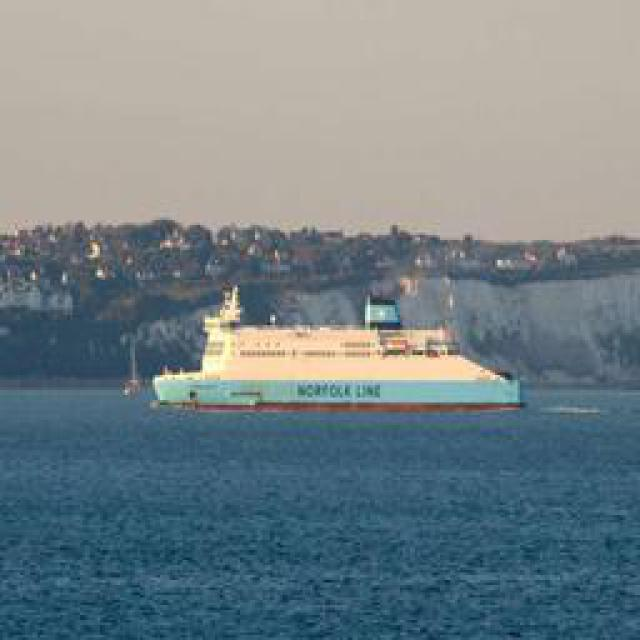Ship: (151, 312, 524, 420)
